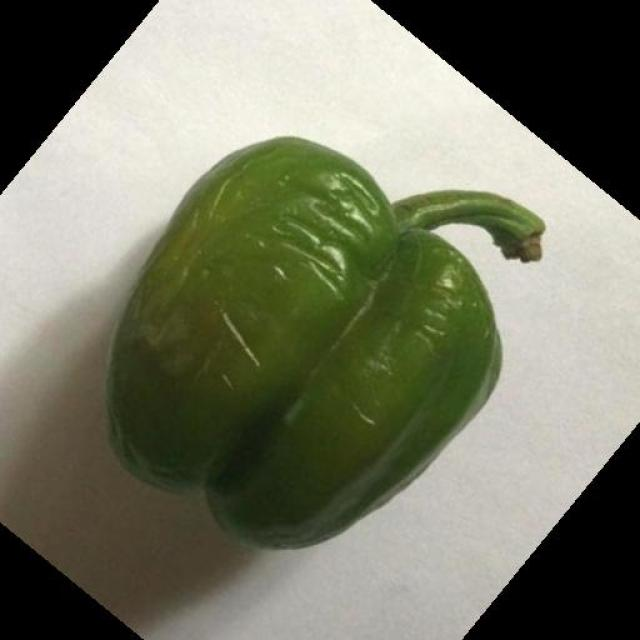Stale_Capsicum: (158, 135, 472, 640)
